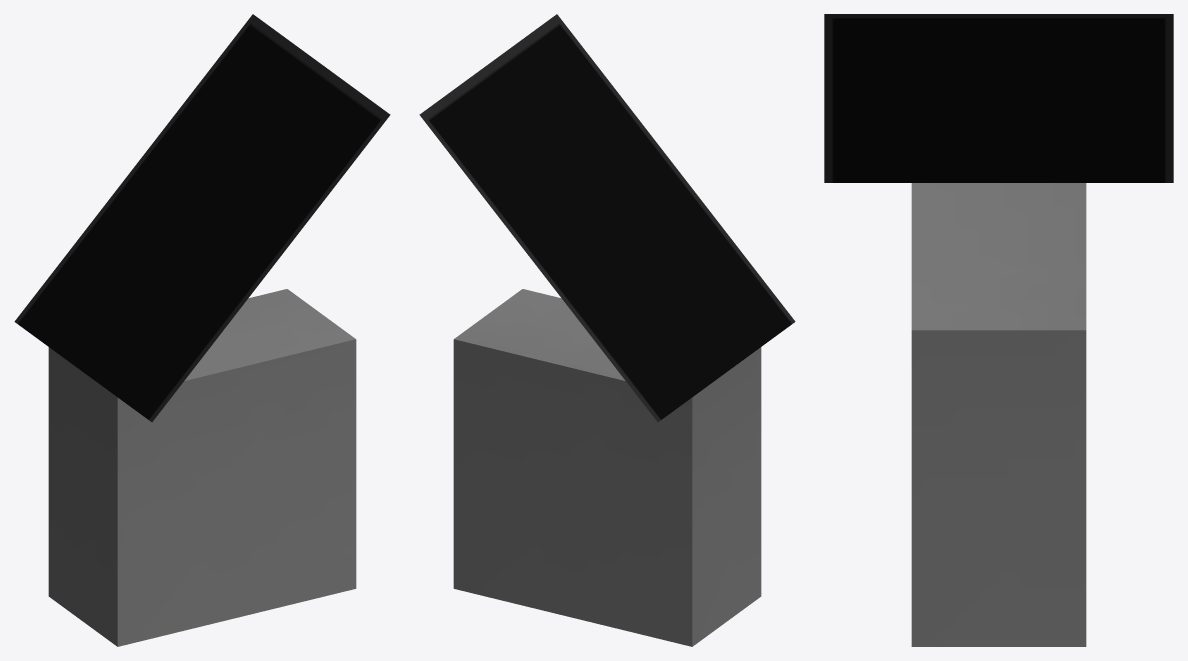
The model's file is dc_metro_roof_g2b.obj.
The picture shows the model from 3 angles, left to right: view 1: azimuth 30°, elevation 25°; view 2: azimuth 150°, elevation 25°; view 3: azimuth 270°, elevation 25°; orthographic projection. The views are drawn at different scales.
Parts seen in each view (by area): view 1: part2b; view 2: part2b; view 3: part2b.
Boxes of the visible parts, x1,y1,x2,y2 form: part2b: [14, 14, 390, 646]; part2b: [419, 14, 795, 646]; part2b: [824, 14, 1173, 646].
Size of the model in its own units: 1 by 2 by 1.
2 materials, 2 textured.
